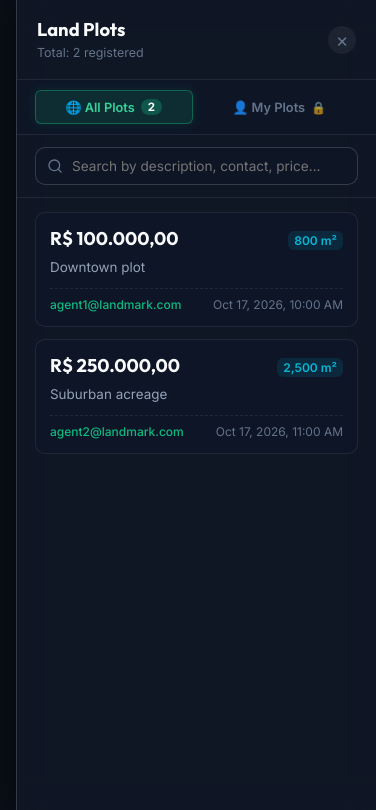
Test case: PlotListPanel Component › displays empty state when no plots match search
In the field with placeholder "Search by description, contact, price...": (196,166) [35,147,358,185], type "Non-existent"
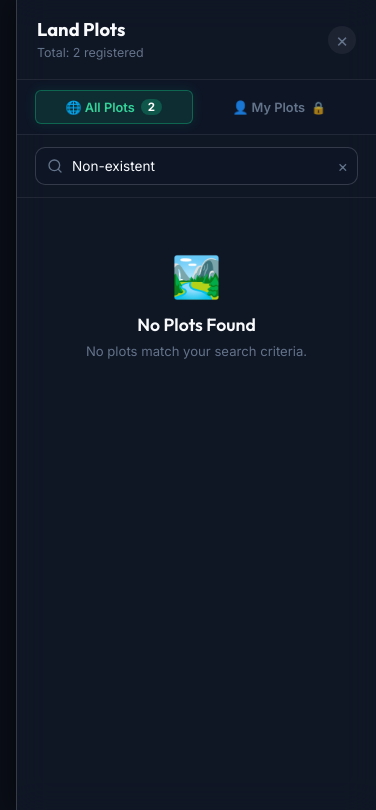
Check: the heading "No Plots Found" is shown, box [137,313,256,336]
